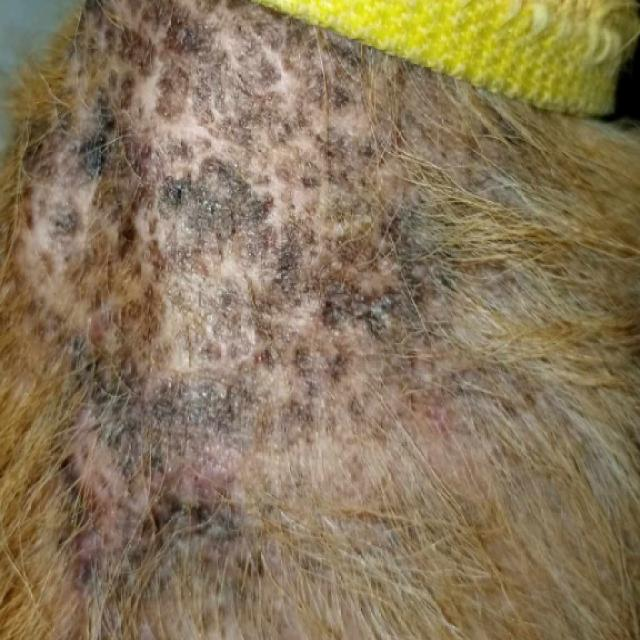demodicosis: (4, 45, 488, 565)
